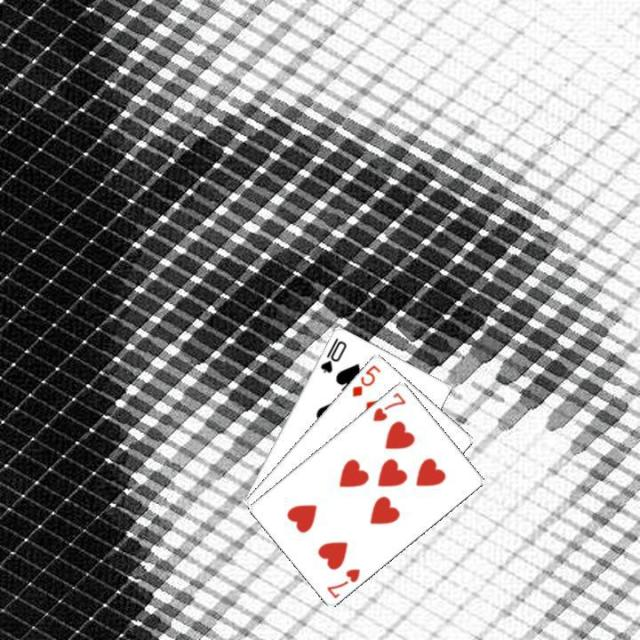10S: (316, 334, 348, 374)
5D: (348, 360, 382, 398)
7H: (322, 564, 362, 600), (369, 388, 408, 423)
